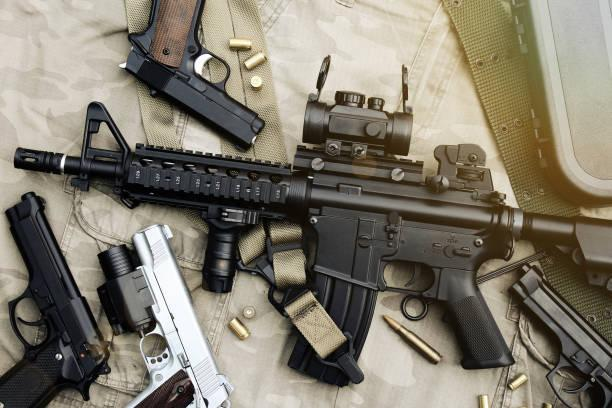weapon: (13, 96, 612, 388), (96, 221, 234, 408), (0, 189, 111, 408), (124, 0, 263, 151), (508, 262, 612, 408)
